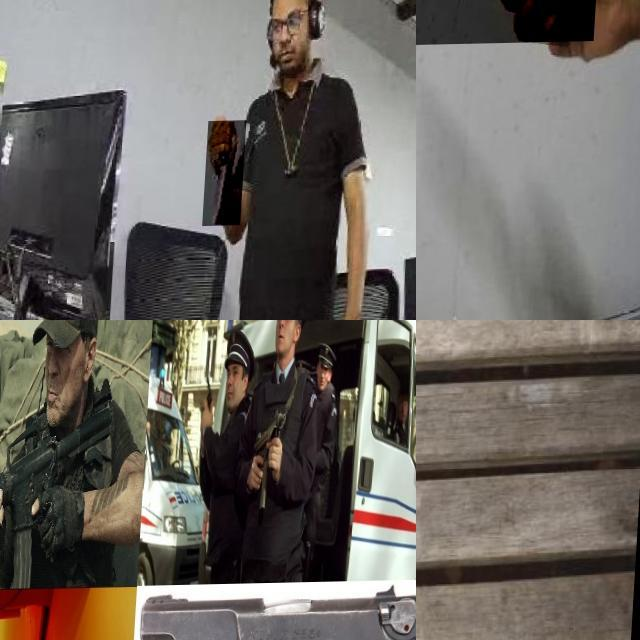-: (416, 320, 496, 640), (416, 0, 608, 110), (416, 320, 463, 618), (209, 122, 252, 227)
gun-knife-thesis - v11 Yolov5 augmented: (0, 392, 121, 590), (244, 406, 296, 519), (0, 548, 42, 593)
